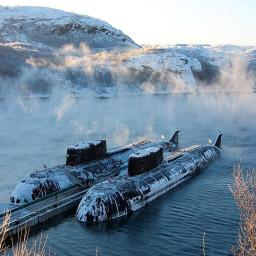submarine: (73, 130, 227, 229), (8, 127, 184, 211)
